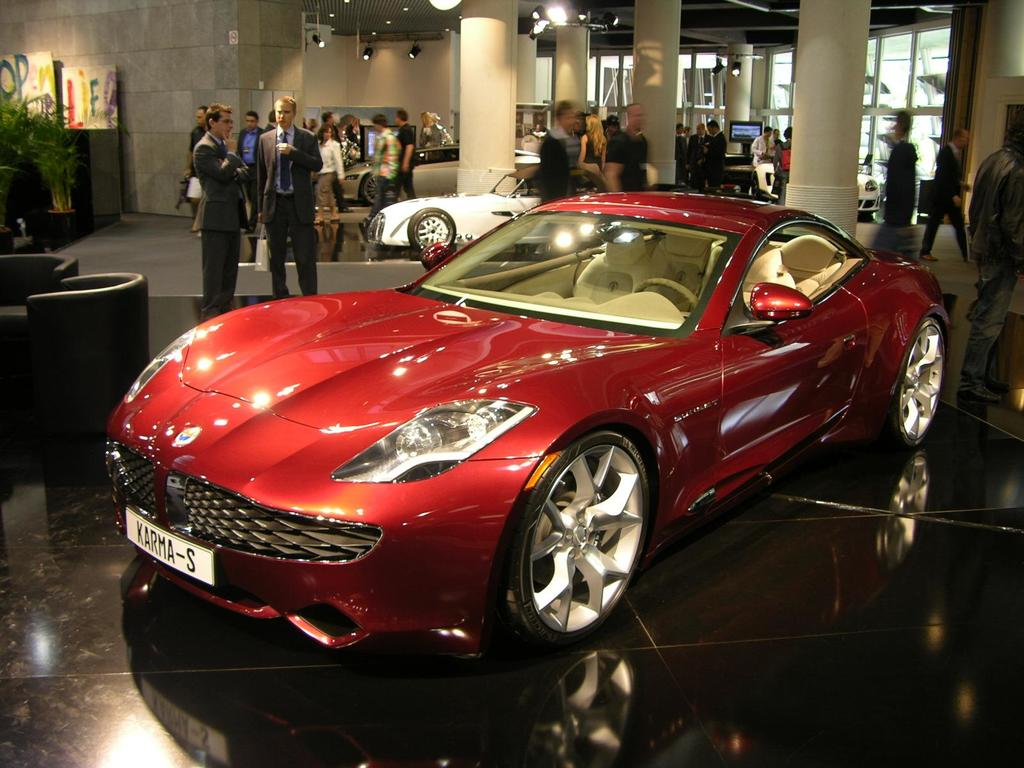Car: (103, 189, 955, 660), (366, 165, 619, 256), (337, 140, 545, 206), (748, 159, 878, 214)
